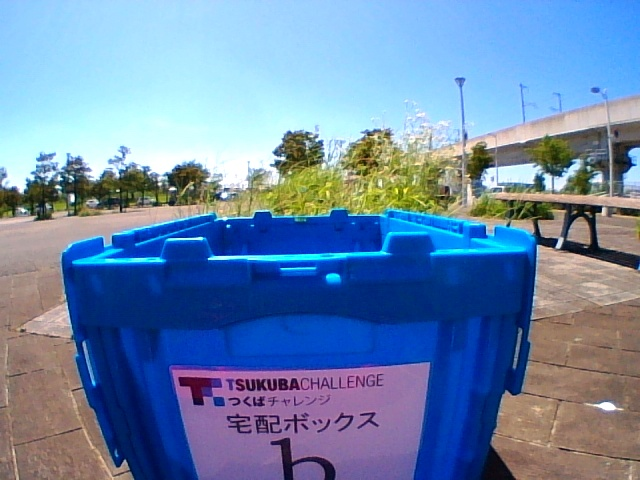blue_box: (151, 224, 486, 480)
tag_b: (196, 373, 414, 480)
